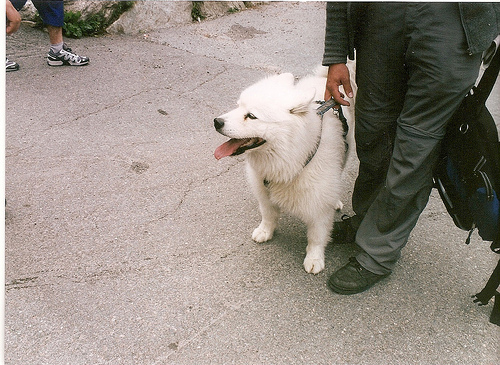dog: (214, 58, 358, 275)
